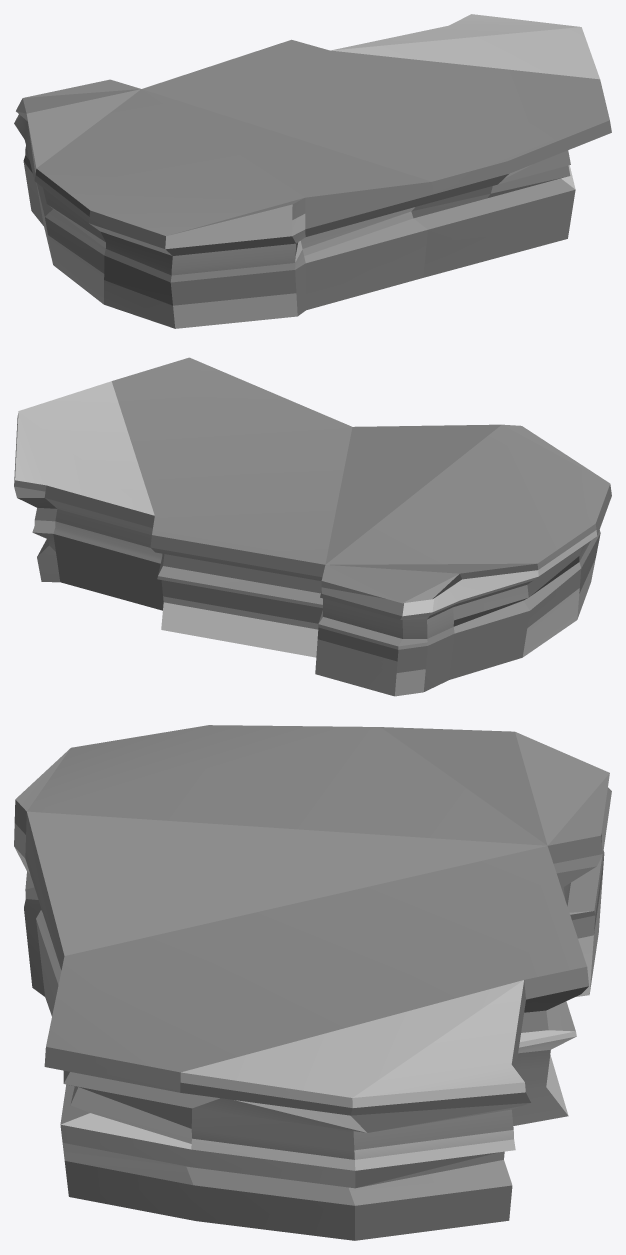
The model's file is SpaceRock5.glb.
3 renders of one model, top to bottom at view 1: azimuth 30°, elevation 25°; view 2: azimuth 150°, elevation 25°; view 3: azimuth 270°, elevation 25°, orthographic. The views are drawn at different scales.
Visible parts, largest first — view 1: cliff_5; view 2: cliff_5; view 3: cliff_5.
Part boxes in pixels (x1,y1,x2,y2): cliff_5: (14,14,611,328); cliff_5: (14,357,611,696); cliff_5: (14,725,611,1240).
Size of the model in its own units: 41.69 by 9.36 by 26.27.
Materials: 1 (1 with a texture image).
